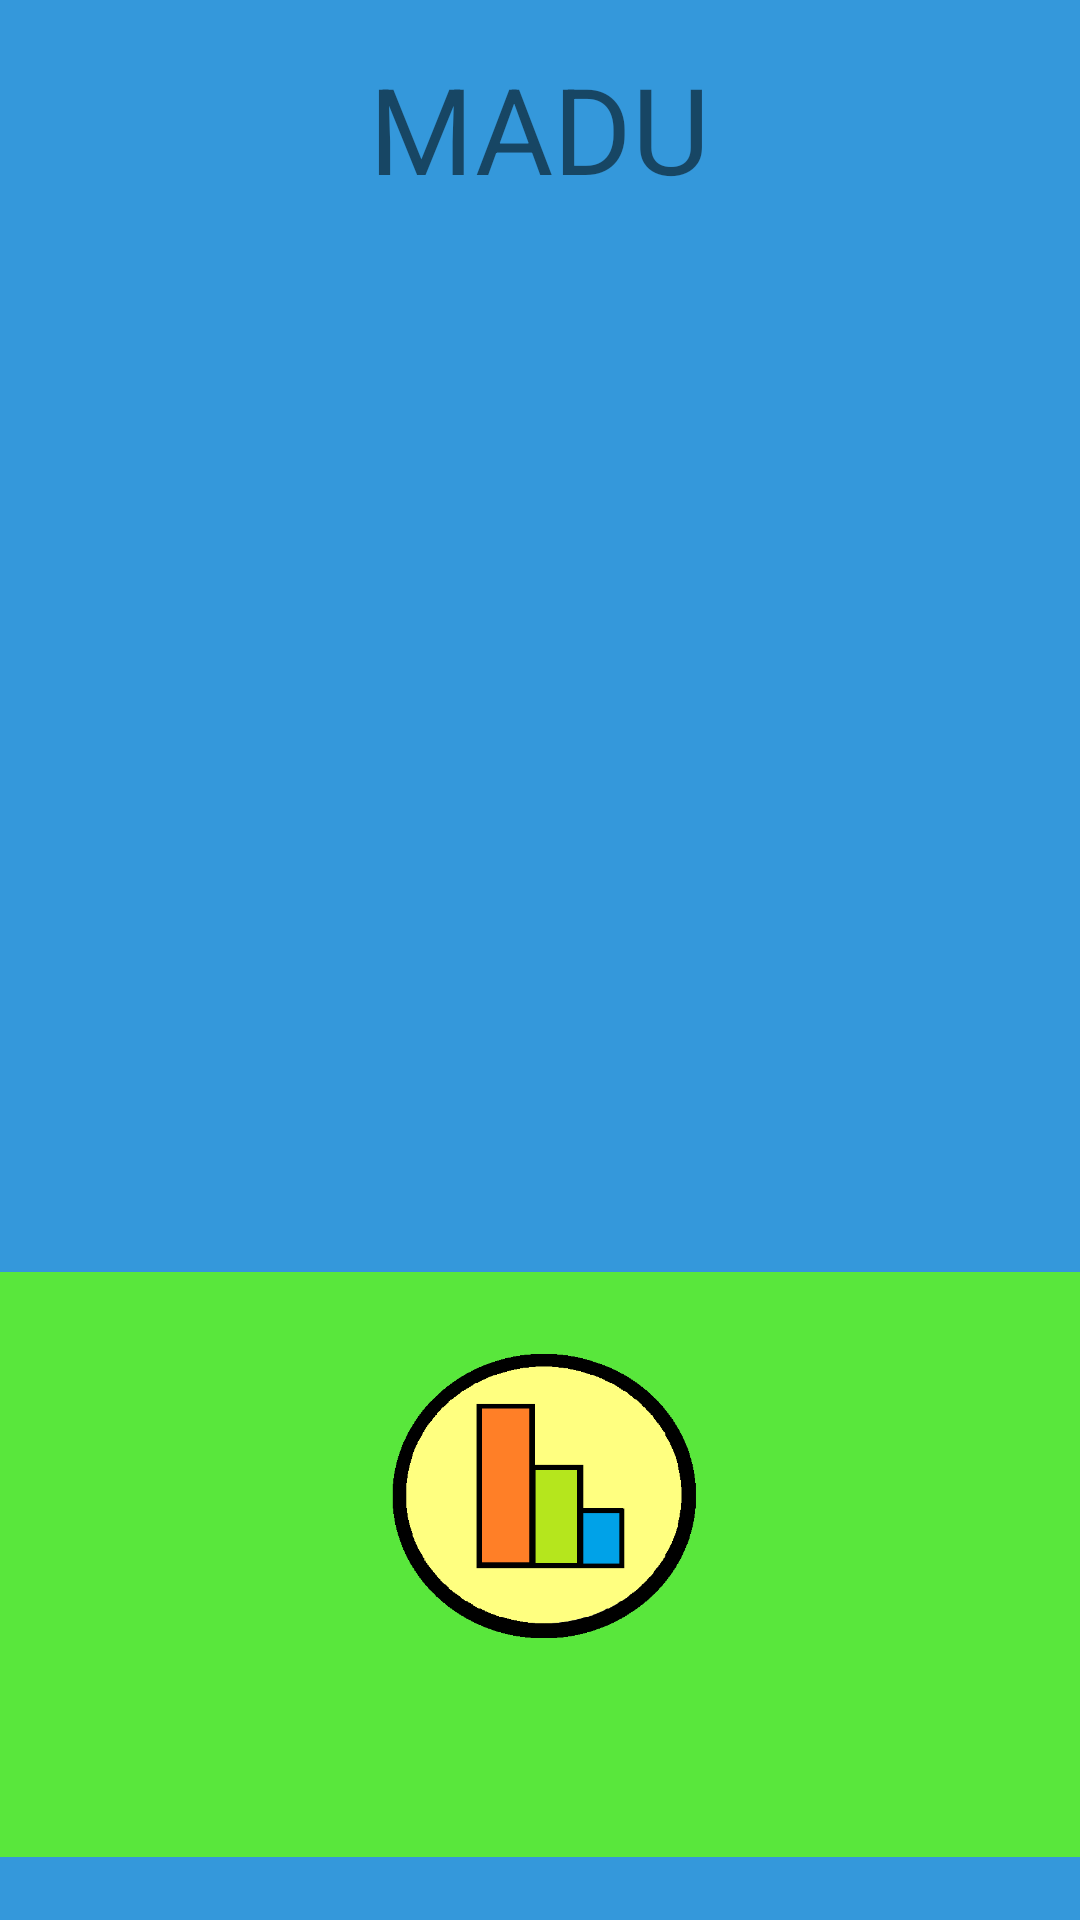

Screen size 1080 × 1920. Icon name, then its center in pixels as point (x, y):
ranking: point (544, 1496)
